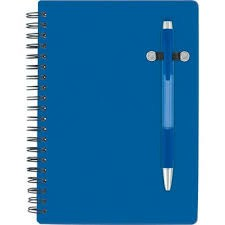pen: (161, 18, 175, 197)
